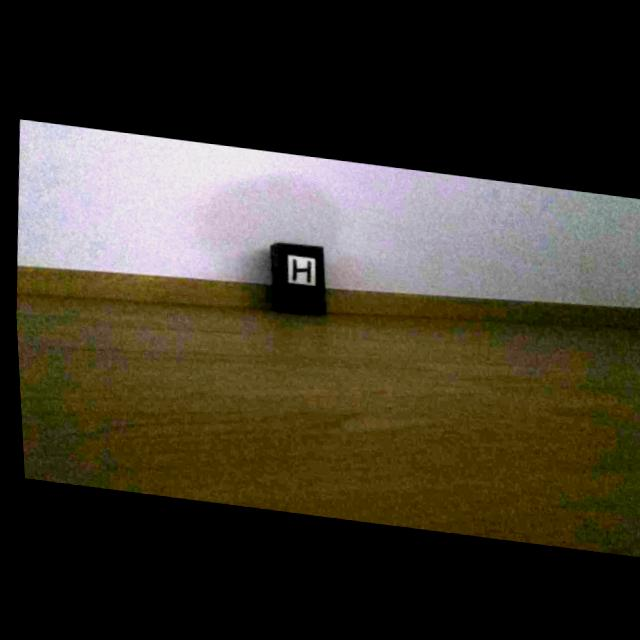H: (289, 255, 308, 279)
